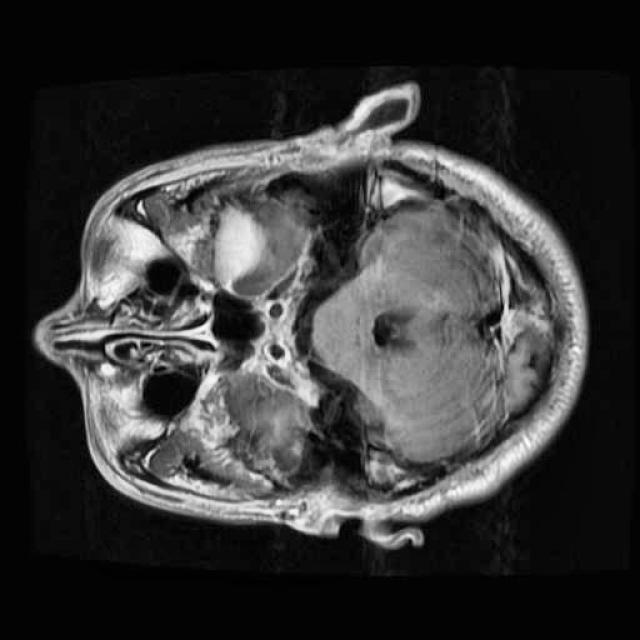Tumor: (201, 188, 278, 302)
